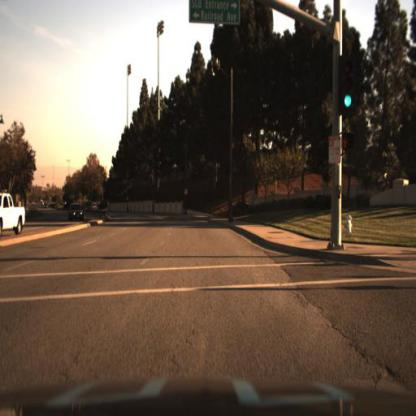car: (1, 194, 29, 234), (71, 204, 88, 224), (89, 200, 102, 216)
